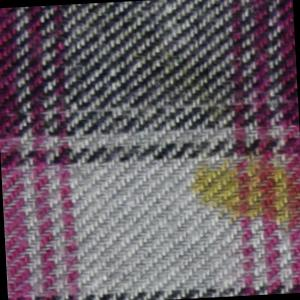Stain: (182, 150, 300, 238)
